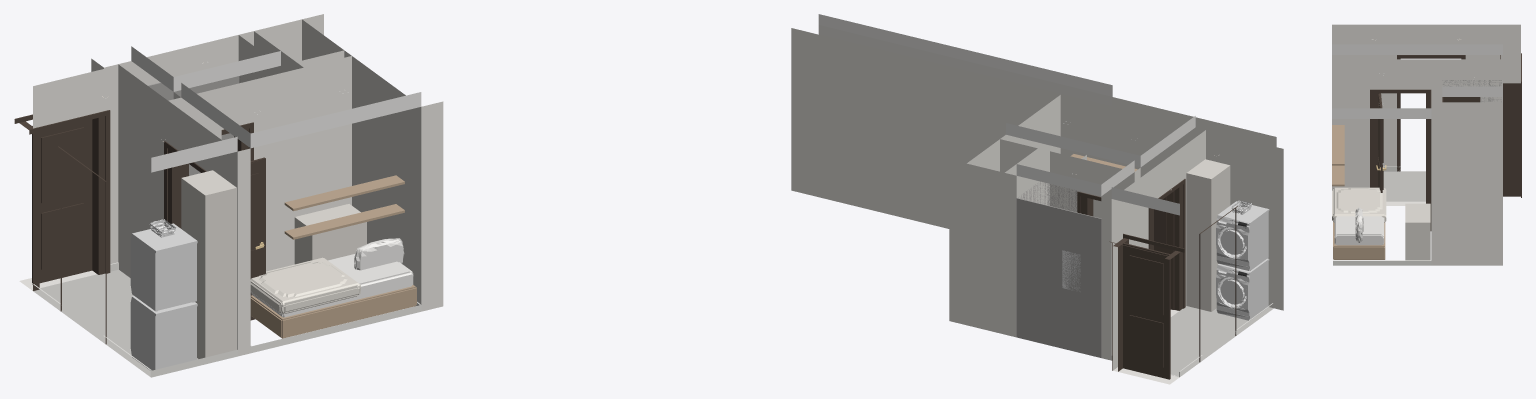
The model's file is MAID.glb.
3 views of the same model, side by side, from view 1: azimuth 30°, elevation 25°; view 2: azimuth 150°, elevation 25°; view 3: azimuth 270°, elevation 25° (orthographic). The views are drawn at different scales.
Parts seen in each view (by area): view 1: WEB_MAID; view 2: WEB_MAID; view 3: WEB_MAID.
Boxes of the visible parts, left/top/right/bottom form: WEB_MAID: left=14, top=14, right=443, bottom=377; WEB_MAID: left=791, top=14, right=1283, bottom=384; WEB_MAID: left=1332, top=24, right=1521, bottom=265.
Size of the model in its own units: 8.91 by 3 by 3.62.
